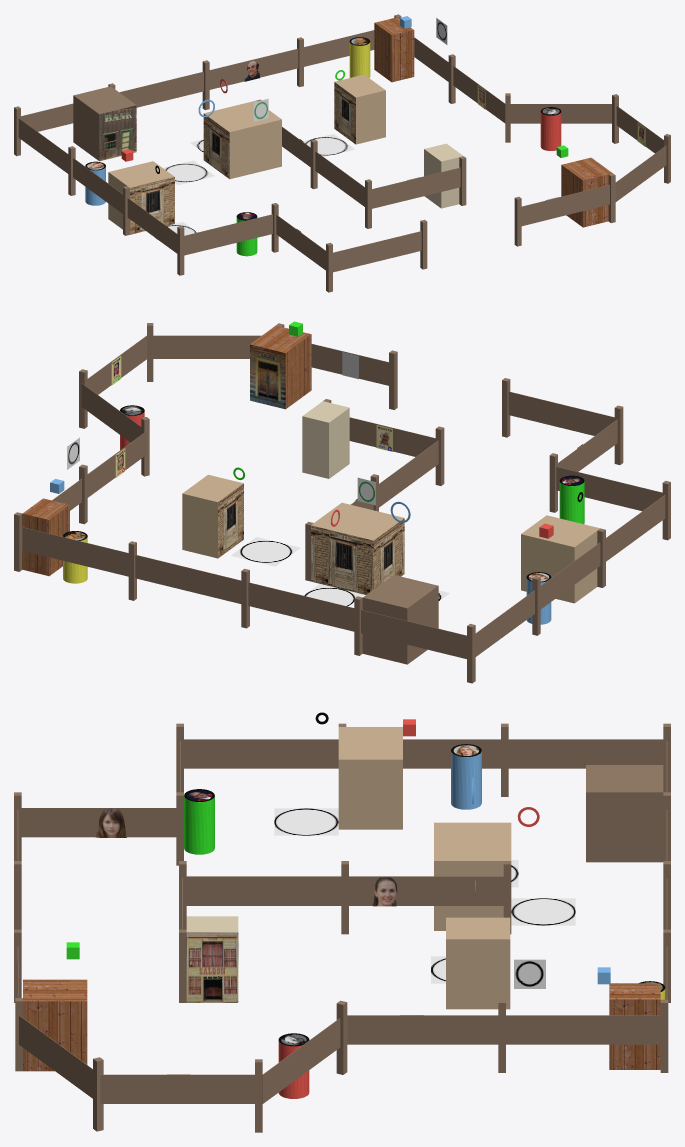
Rendered from rins_2023_task3_final_textures.dae.
The picture shows the model from 3 angles, top to bottom: view 1: azimuth 30°, elevation 25°; view 2: azimuth 150°, elevation 25°; view 3: azimuth 270°, elevation 25°; orthographic projection. The views are drawn at different scales.
Parts seen in each view (by area): view 1: rins_2023_task3_final_textures; view 2: rins_2023_task3_final_textures; view 3: rins_2023_task3_final_textures.
Part boxes in pixels (x1,y1,x2,y2): rins_2023_task3_final_textures: (14,14,670,292); rins_2023_task3_final_textures: (14,321,670,683); rins_2023_task3_final_textures: (14,712,670,1132).
Bounding box in the file's own units: 6.22 × 5.1 × 0.95.
